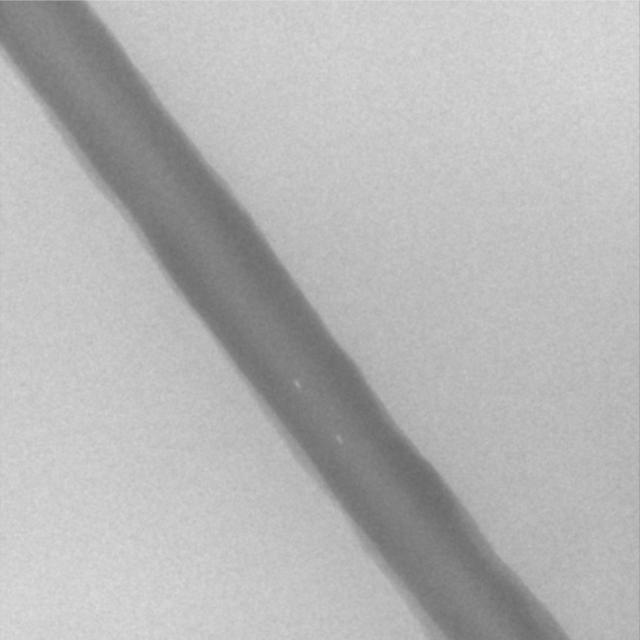air hole: (334, 431, 343, 445), (293, 378, 301, 390)
